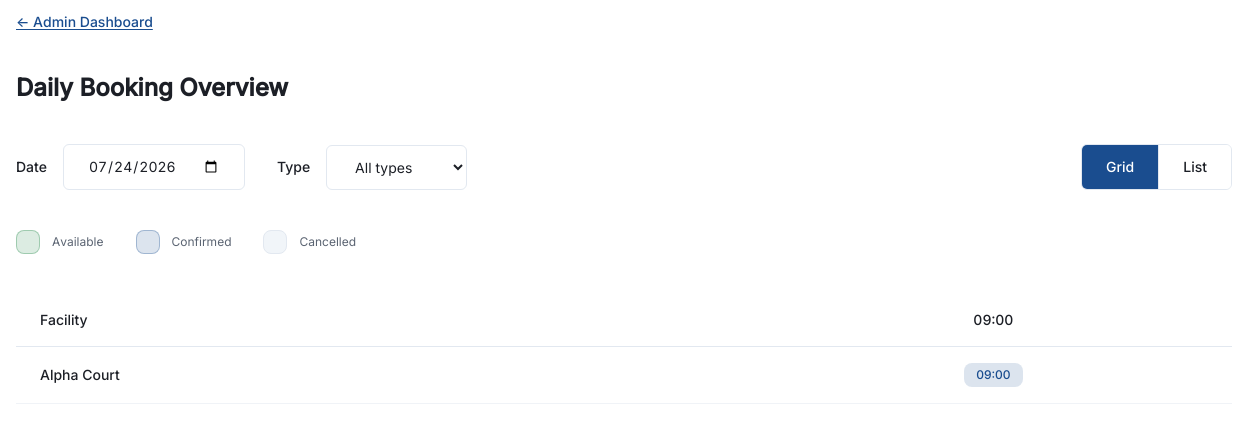
Test: TenantDailyOverview › tooltip disappears on mouseleave (Grid view)
Hover over the text "09:00": (993, 375) [964, 363, 1023, 387]
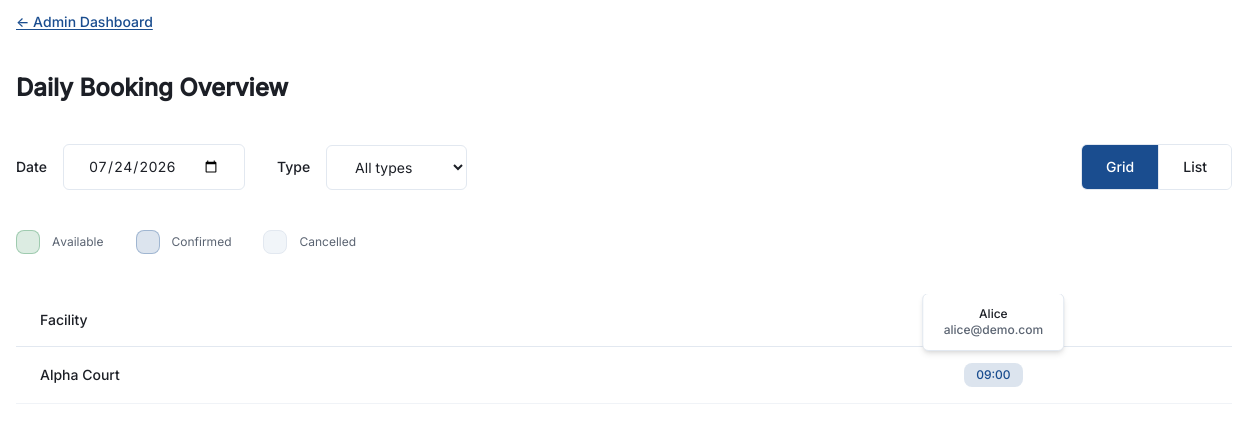
expect the tooltip "Alice alice@demo.com" is shown: met, box [923, 294, 1064, 351]
Move the pointer off the text "09:00", box [964, 363, 1023, 387]
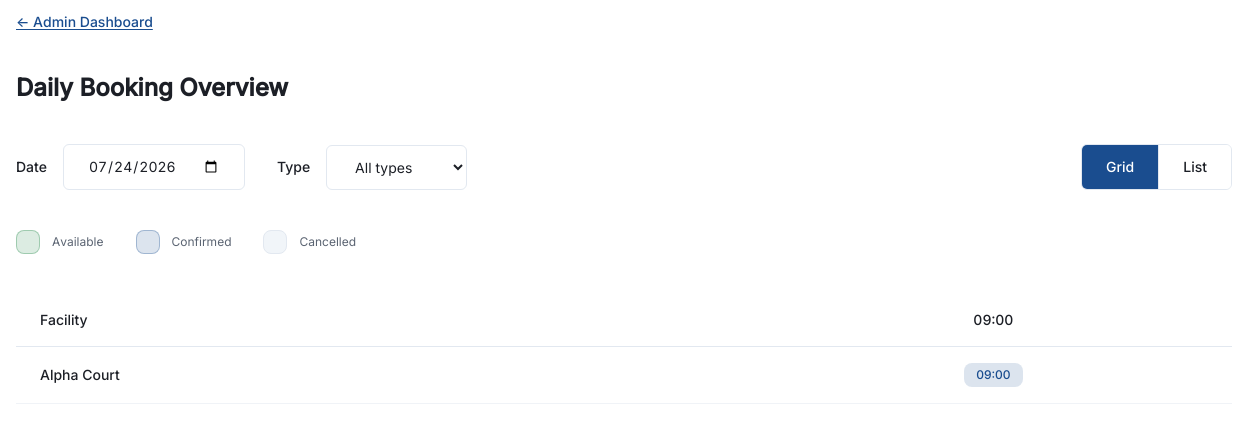
expect the tooltip "Alice alice@demo.com" is gone: met
